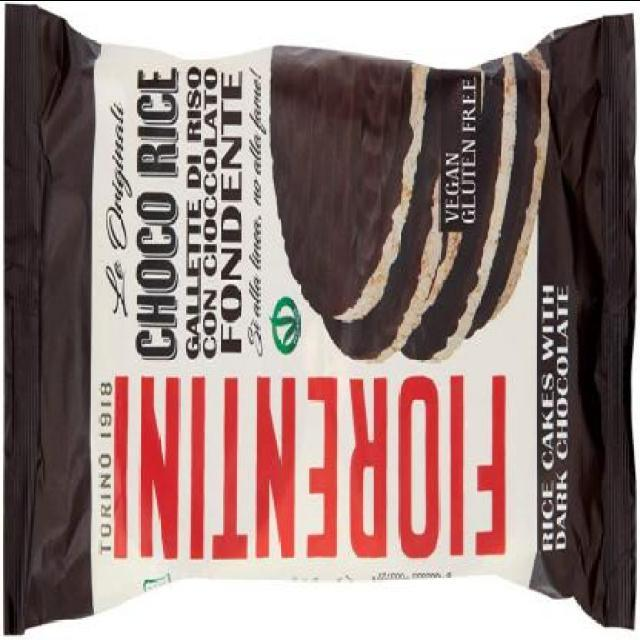Gallette di riso: (17, 1, 637, 630)
